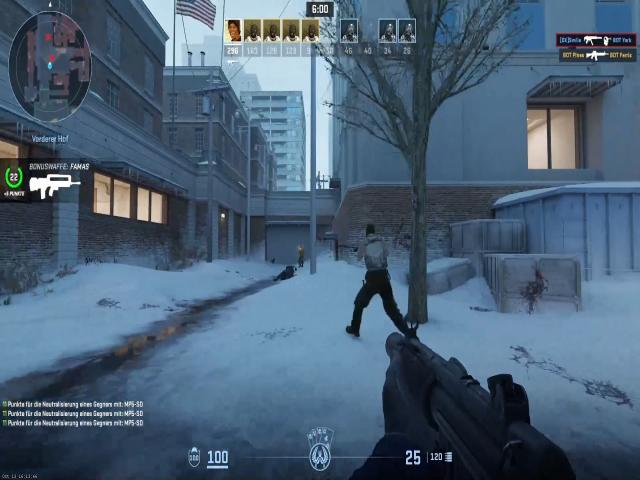CT: (298, 244, 304, 267)
T: (357, 225, 389, 302)
T-Head: (364, 220, 379, 243)
